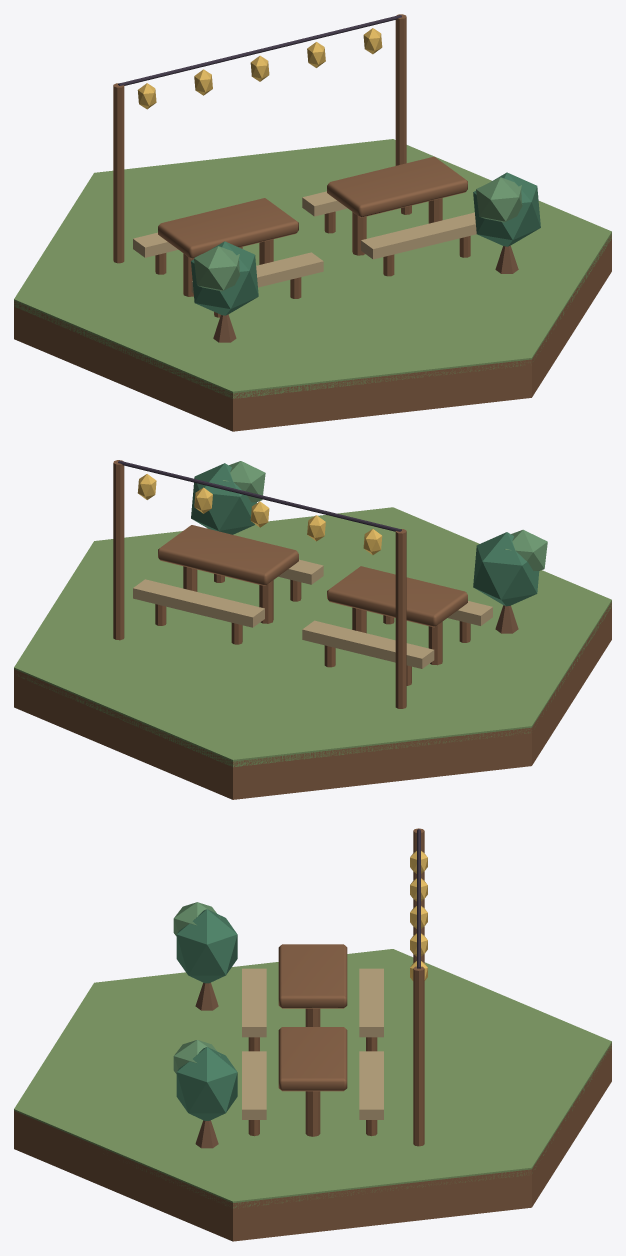
The model's file is beerGarden.glb.
The picture shows the model from 3 angles, top to bottom: view 1: azimuth 30°, elevation 25°; view 2: azimuth 150°, elevation 25°; view 3: azimuth 270°, elevation 25°; orthographic projection.
Visible parts, largest first — view 1: Cone.143, Cone.142, Cube.043, Cube.040, Cube.044, Icosphere.071, Icosphere.073, Cone.156, Cone.158, Icosphere.074, Icosphere.072, Cube.041 (+3 smaller); view 2: Cone.143, Cone.142, Cube.043, Cube.040, Icosphere.071, Cube.045, Icosphere.073, Cube.042, Cone.156, Cone.158, Cone.160, Icosphere.072 (+6 smaller); view 3: Cone.143, Cone.142, Cube.040, Cube.043, Icosphere.071, Icosphere.073, Cone.158, Cube.041, Cube.042, Cube.044, Cube.045, Cone.155 (+3 smaller).
Part boxes in pixels (x1,y1,x2,y2): Cone.143: (14,139,611,398); Cone.142: (14,234,611,431); Cube.043: (327,156,467,217); Cube.040: (158,198,298,259); Cube.044: (361,212,476,259); Icosphere.071: (191,241,258,315); Icosphere.073: (473,172,540,246); Cone.156: (113,83,124,263); Cone.158: (395,14,406,165); Icosphere.074: (476,177,522,222); Icosphere.072: (194,246,240,291); Cube.041: (191,252,323,292); Cone.143: (14,507,611,767); Cone.142: (14,602,611,799); Cube.043: (158,525,298,585); Cube.040: (327,566,467,627); Icosphere.071: (473,532,539,606); Cube.045: (133,579,264,627); Icosphere.073: (191,463,256,534); Cube.042: (302,620,434,668); Cone.156: (395,529,406,708); Cone.158: (113,460,124,640); Cone.160: (118,460,401,531); Icosphere.072: (505,529,547,570); Cone.143: (14,949,611,1208); Cone.142: (14,1043,611,1241); Cube.040: (278,944,347,1008); Cube.043: (278,1027,347,1091); Icosphere.071: (176,909,237,983); Icosphere.073: (176,1047,237,1120); Cone.158: (413,966,424,1146); Cube.041: (242,968,266,1037); Cube.042: (359,968,383,1037); Cube.044: (242,1051,266,1119); Cube.045: (359,1051,383,1119); Cone.155: (305,1091,320,1136).
Size of the model in its own units: 3.67 by 1.47 by 3.67.
